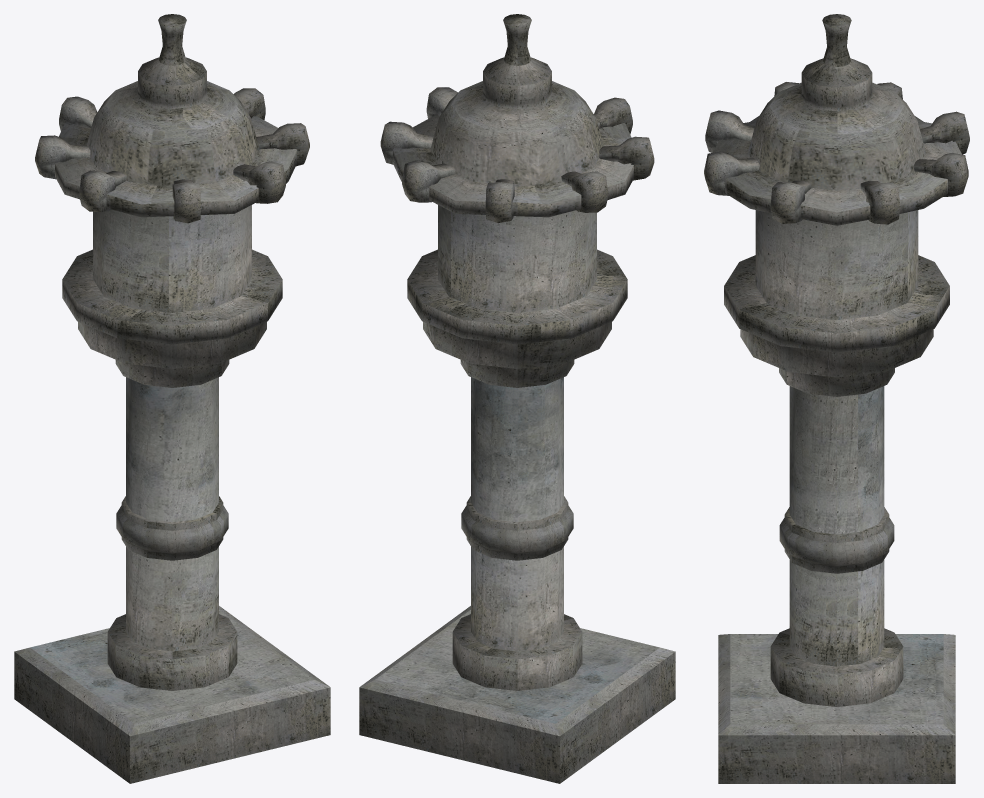
File: pilar1m.fbx
The picture shows the model from 3 angles, left to right: view 1: azimuth 30°, elevation 25°; view 2: azimuth 150°, elevation 25°; view 3: azimuth 270°, elevation 25°; orthographic projection. The views are drawn at different scales.
Parts seen in each view (by area): view 1: Cube; view 2: Cube; view 3: Cube.
Boxes of the visible parts, x1,y1,x2,y2 form: Cube: (14, 14, 330, 783); Cube: (359, 14, 675, 783); Cube: (704, 14, 969, 783).
Bounding box in the file's own units: 0.8065 × 2.39 × 0.8065.
